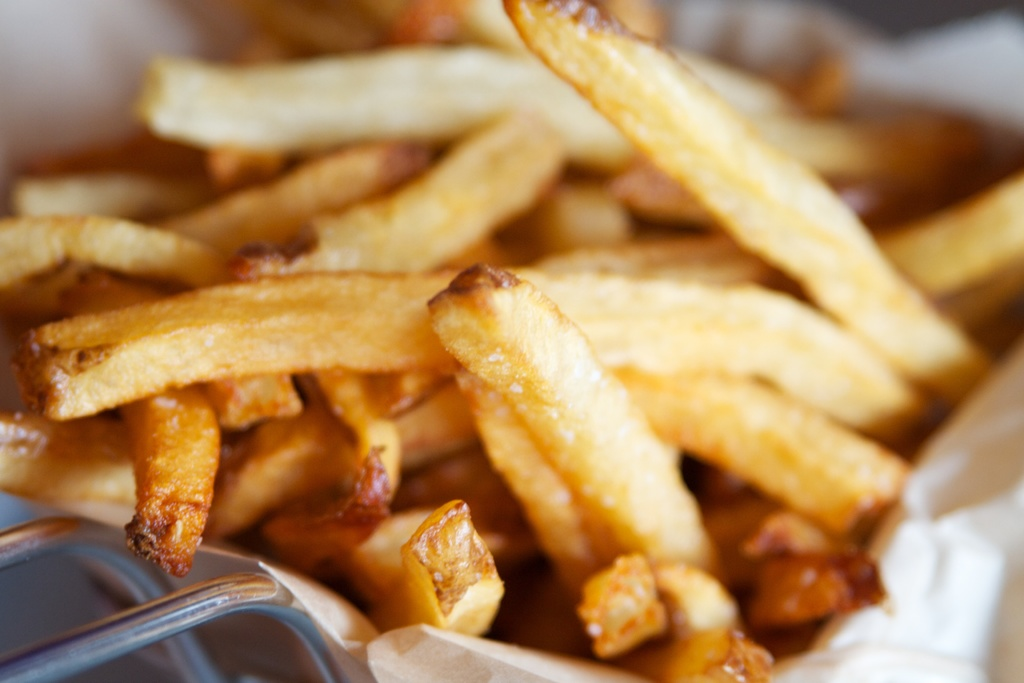French fries: (0, 0, 1024, 683)
